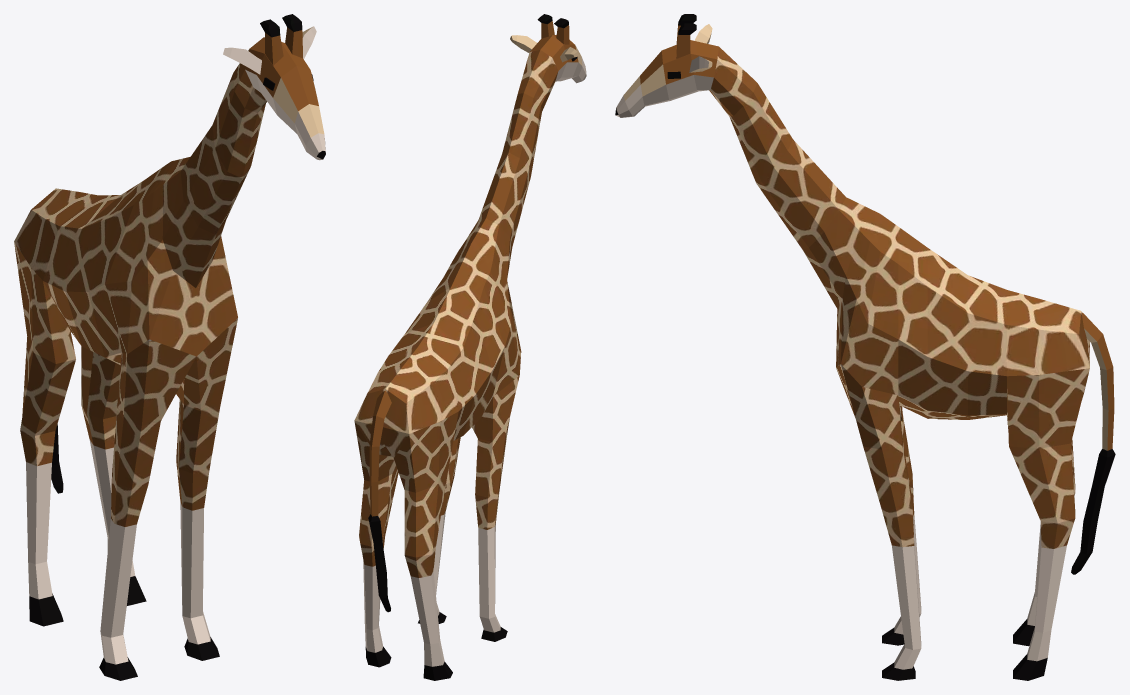
Rendered from giraffe.glb.
3 renders of one model, left to right at view 1: azimuth 30°, elevation 25°; view 2: azimuth 150°, elevation 25°; view 3: azimuth 270°, elevation 25°, orthographic. The views are drawn at different scales.
Parts seen in each view (by area): view 1: Geo_Giraffe; view 2: Geo_Giraffe; view 3: Geo_Giraffe.
Boxes of the visible parts, <box> form: Geo_Giraffe: <box>14,14,325,680</box>; Geo_Giraffe: <box>354,14,586,680</box>; Geo_Giraffe: <box>615,14,1115,680</box>.
Size of the model in its own units: 58.75 by 362 by 258.
1 material, 1 textured.
